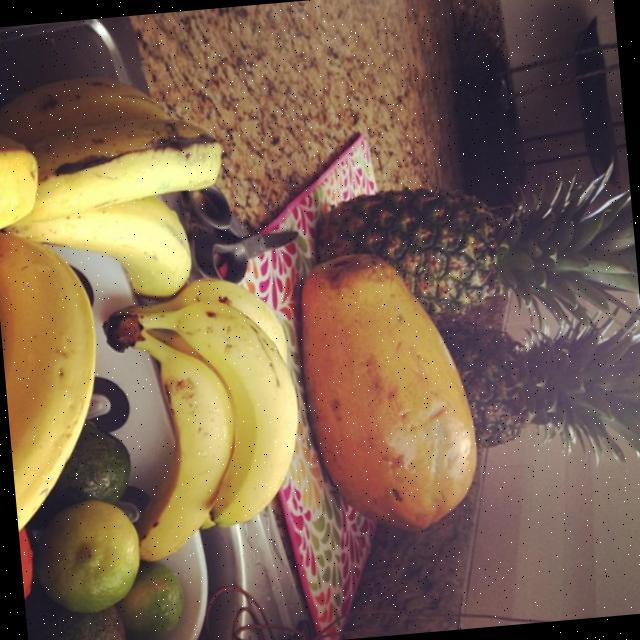banana: (131, 279, 297, 527), (137, 338, 231, 561)
